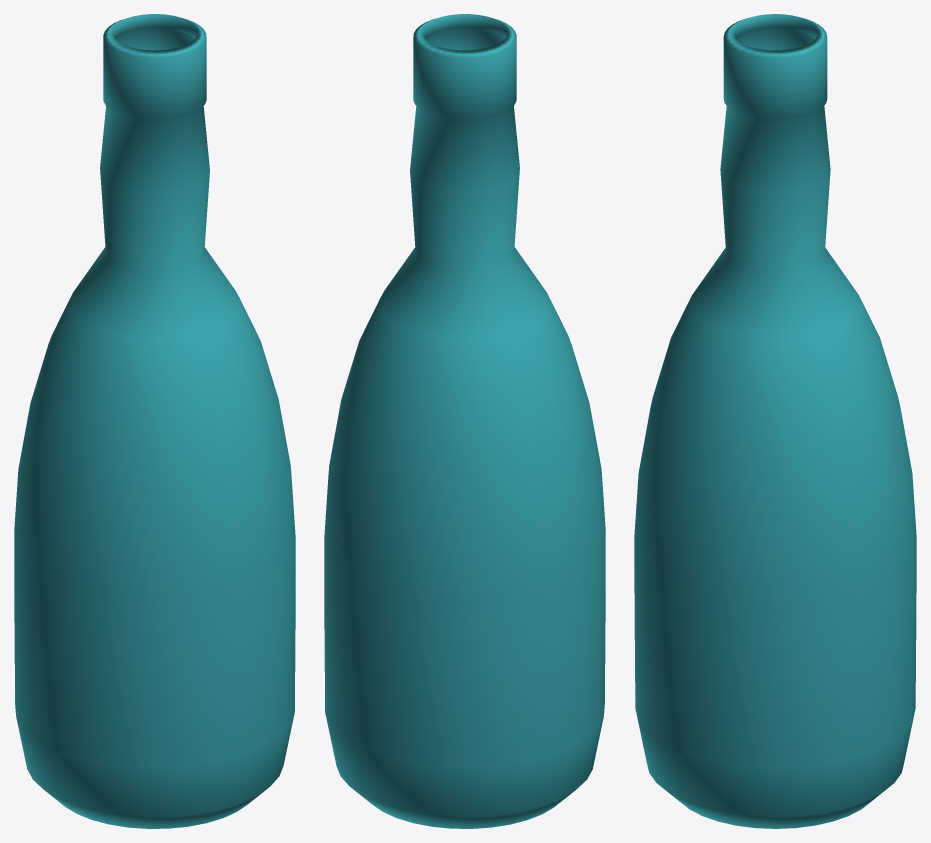
Rendered from SM_BouteilleBleue.fbx.
3 views of the same model, side by side, from view 1: azimuth 30°, elevation 25°; view 2: azimuth 150°, elevation 25°; view 3: azimuth 270°, elevation 25° (orthographic).
Parts seen in each view (by area): view 1: Cylinder.001; view 2: Cylinder.001; view 3: Cylinder.001.
Part boxes in pixels (x1,y1,x2,y2): Cylinder.001: [14, 14, 295, 828]; Cylinder.001: [324, 14, 605, 828]; Cylinder.001: [634, 14, 916, 828].
Bounding box in the file's own units: 14.87 × 14.87 × 43.77.
